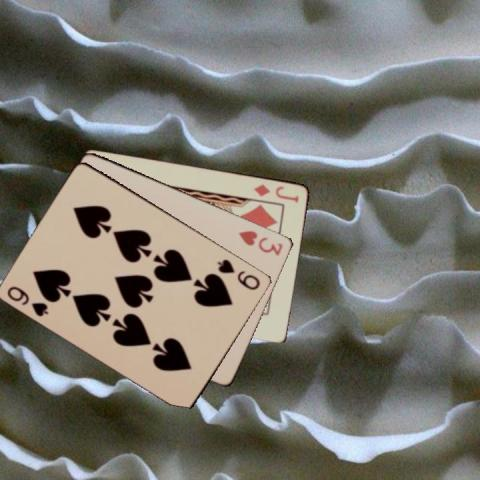3h: (236, 227, 285, 256)
9s: (215, 256, 262, 292), (4, 283, 51, 318)
Jd: (250, 181, 300, 204)
